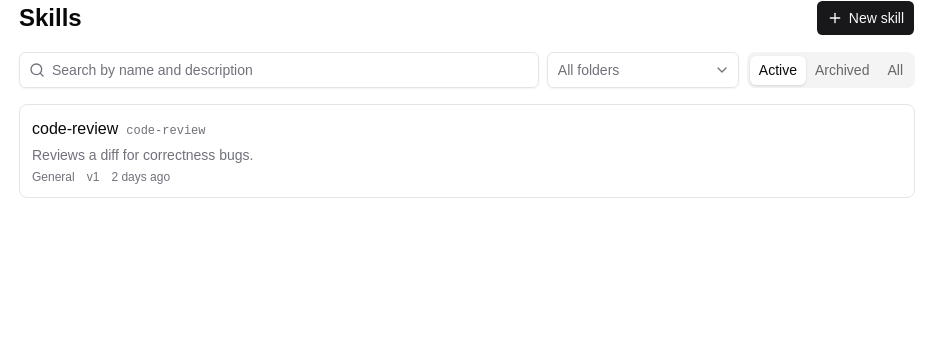
Test: skills list › search sends q after a pause, keeps the server order and shows "2 skills found"
This screenshot has width=932, height=353.
Type "forms" into the search field labelled "Search" at (279, 70), box [19,52,539,88]
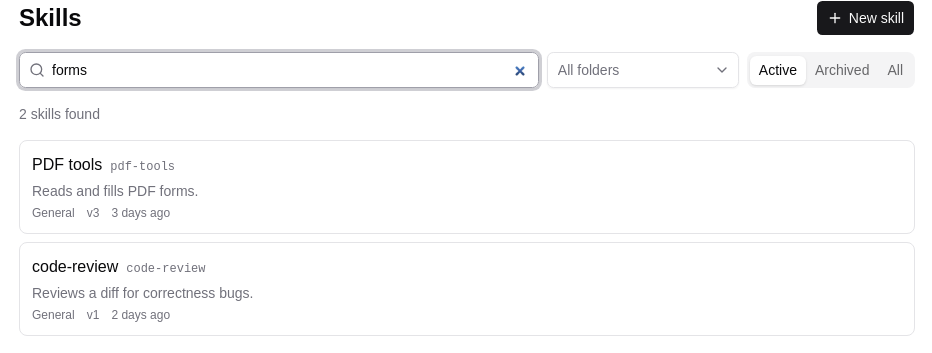
Expected: the link that starts with "code-review" is shown, [19,242,915,336]
Expected: the text "2 skills found" is shown, [19,106,100,122]
Expected: the link that starts with "PDF tools" is shown, [19,140,915,234]
